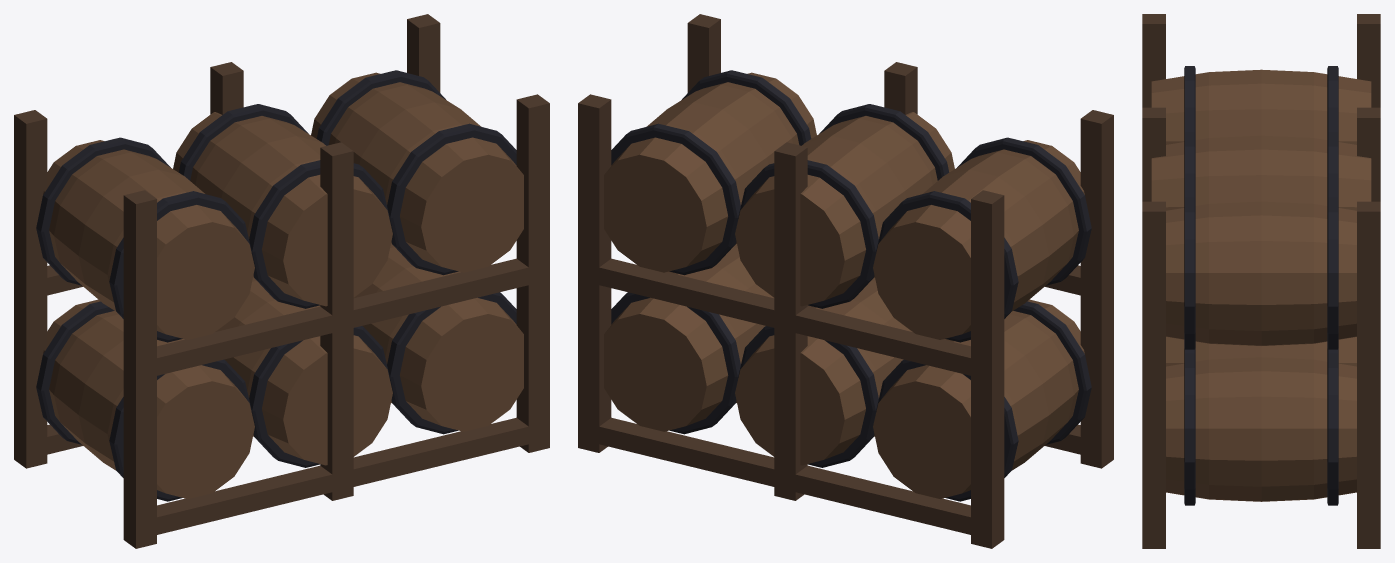
Rendered from cask_rack.glb.
The picture shows the model from 3 angles, left to right: view 1: azimuth 30°, elevation 25°; view 2: azimuth 150°, elevation 25°; view 3: azimuth 270°, elevation 25°; orthographic projection. The views are drawn at different scales.
Parts seen in each view (by area): view 1: cask_rack; view 2: cask_rack; view 3: cask_rack.
Part boxes in pixels (left/top/right/bottom): cask_rack: left=14, top=14, right=549, bottom=548; cask_rack: left=578, top=14, right=1113, bottom=548; cask_rack: left=1142, top=14, right=1380, bottom=548.
Size of the model in its own units: 0.98 by 0.78 by 0.5.
